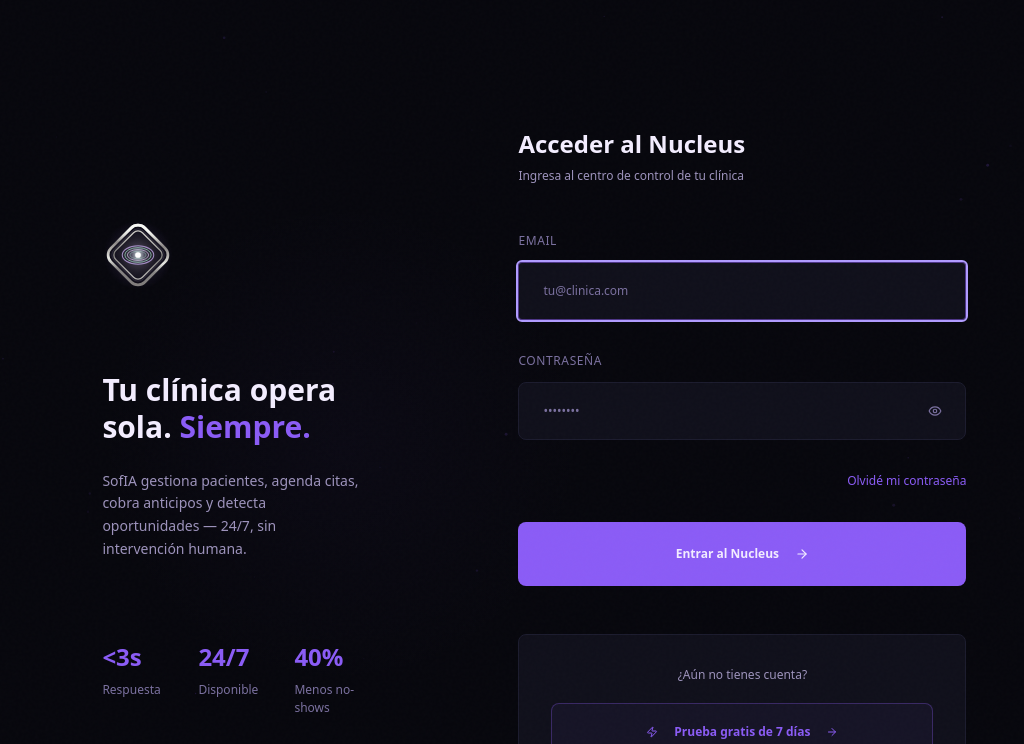
Test: LoginPage › should display raw error message for non-credential auth errors
In the field with placeholder "tu@clinica.com": {"x": 742, "y": 291} 518,262 -> 966,320, type "unconfirmed@email.com"
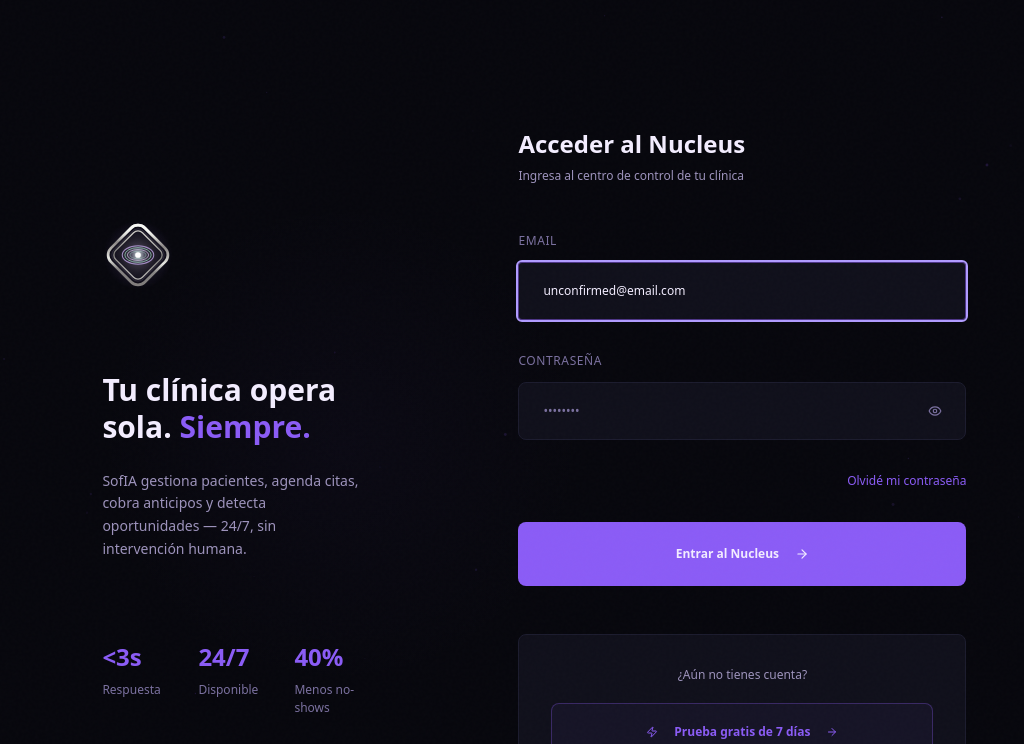
In the password field with placeholder "••••••••": {"x": 742, "y": 411} 518,382 -> 966,440, type "pass"
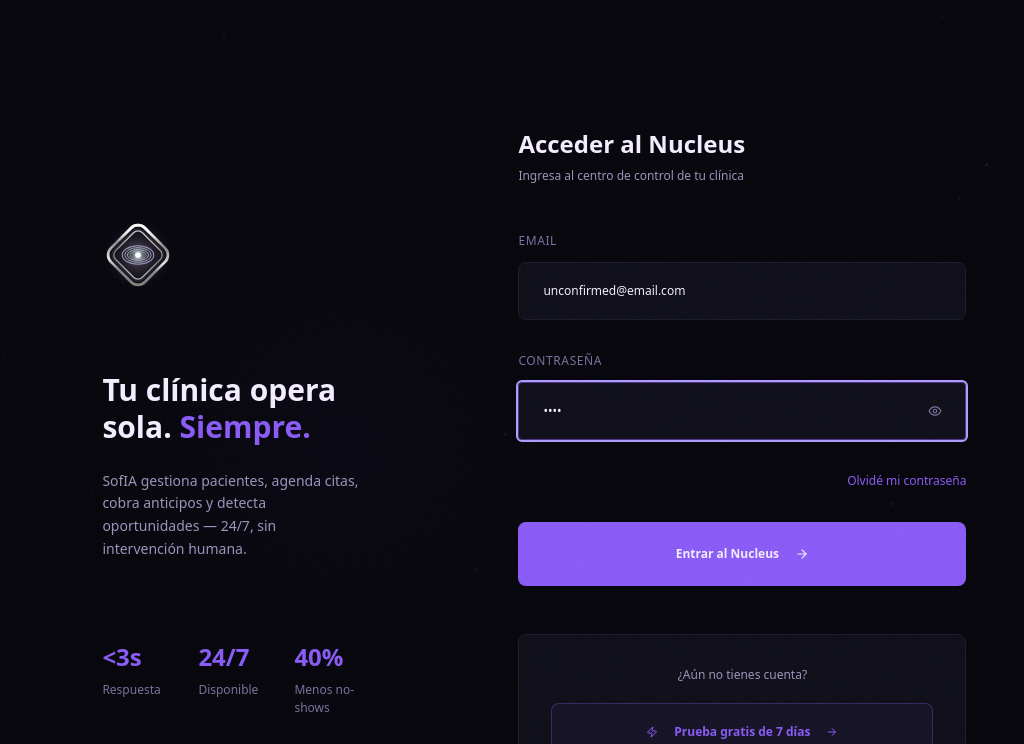
Click the button "Entrar al Nucleus": {"x": 742, "y": 554} 518,522 -> 966,586
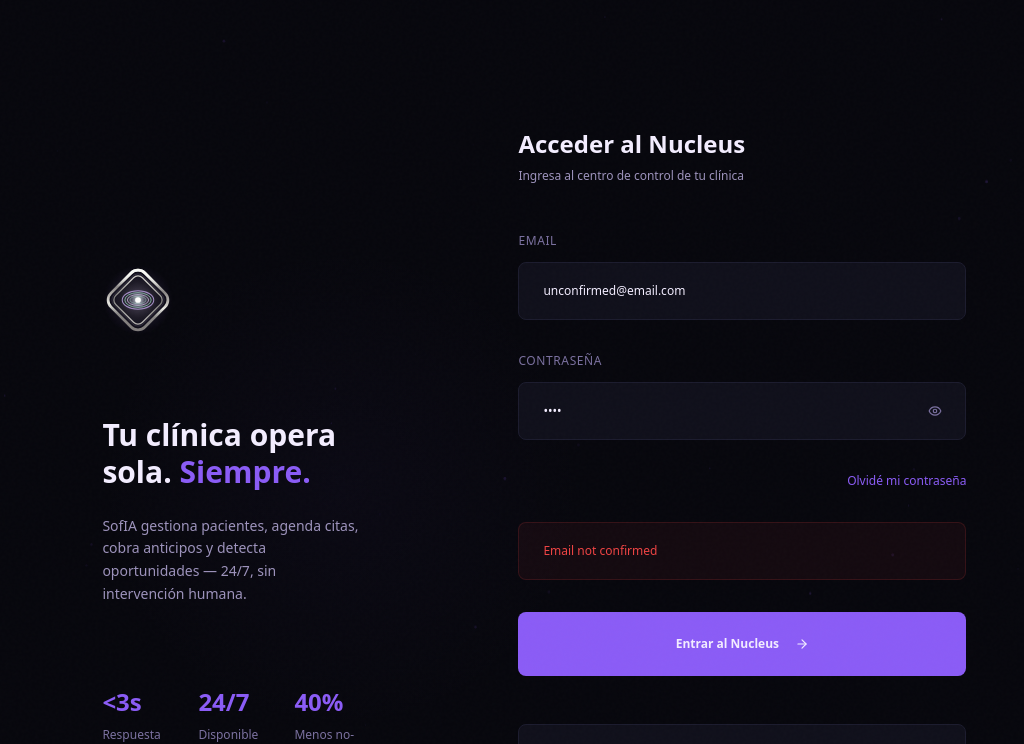
Now the text "Email not confirmed" is shown, box 518,522 -> 966,580
